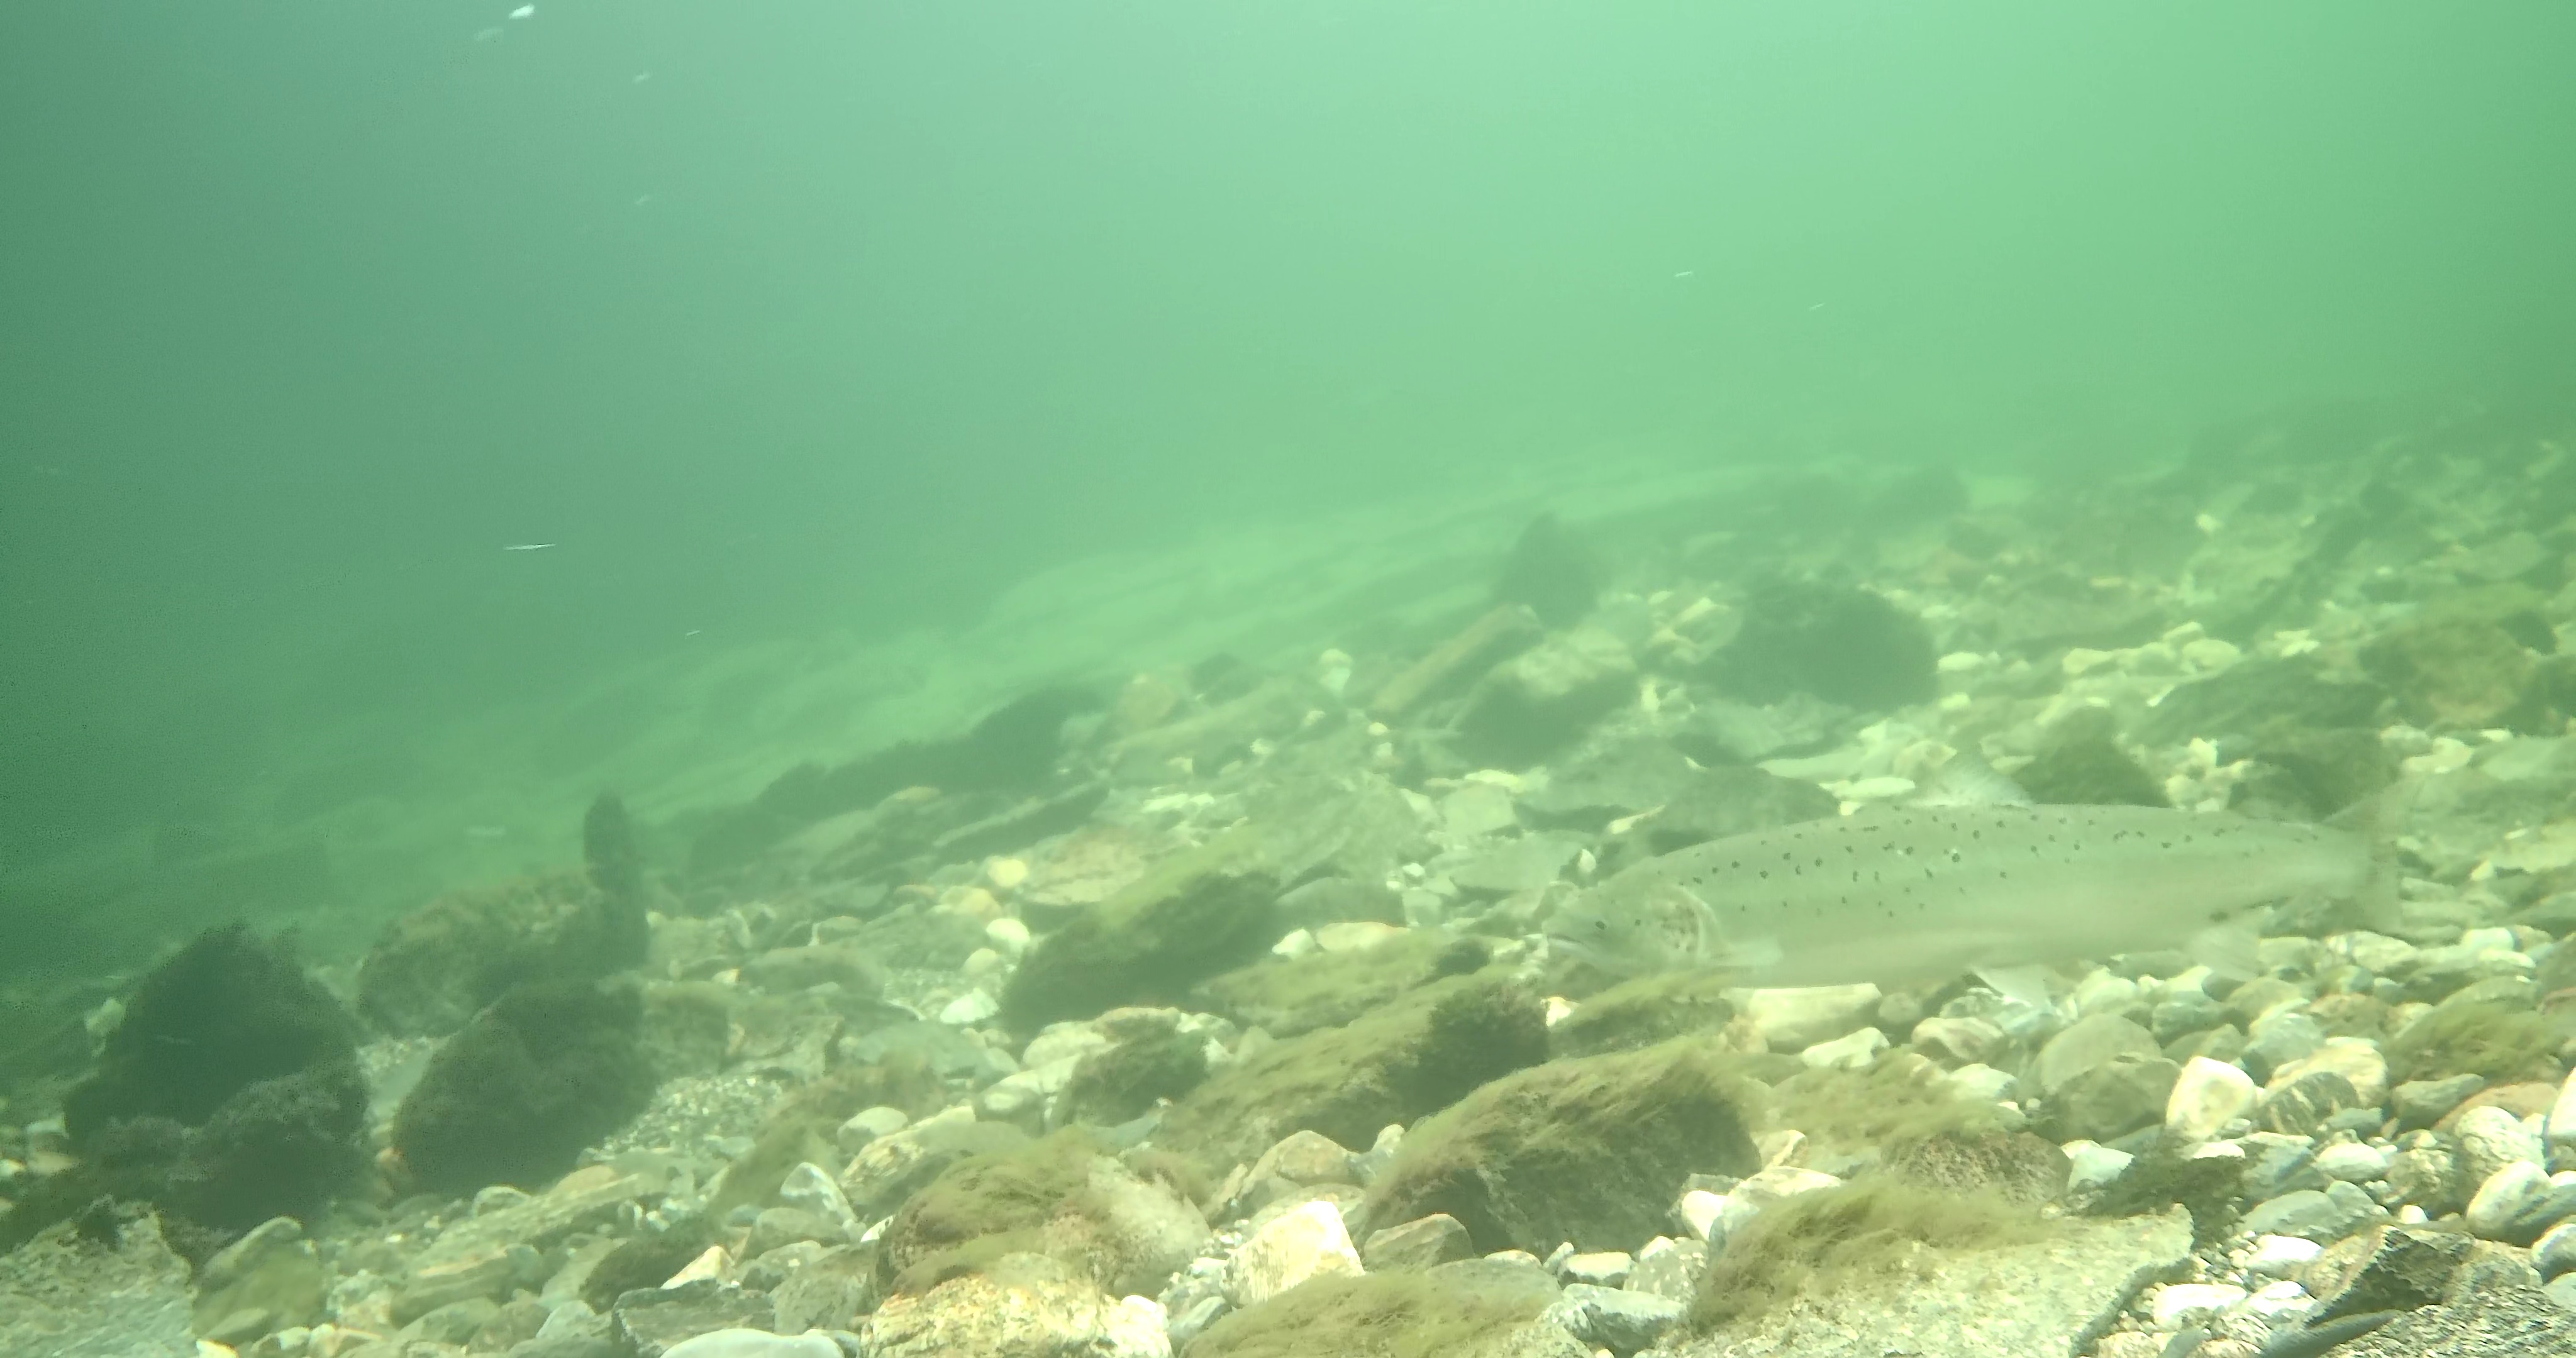salmon: (1530, 739, 2428, 1024)
